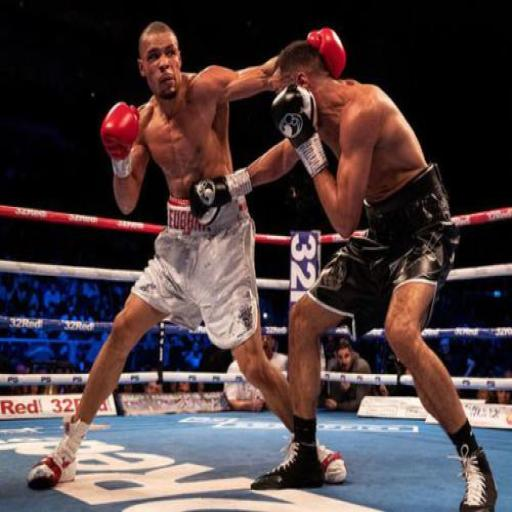boxing: (26, 20, 348, 492)
